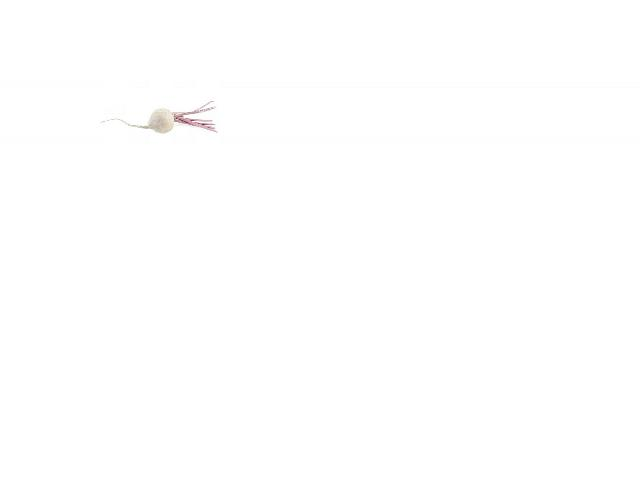beet: (99, 101, 216, 133)
